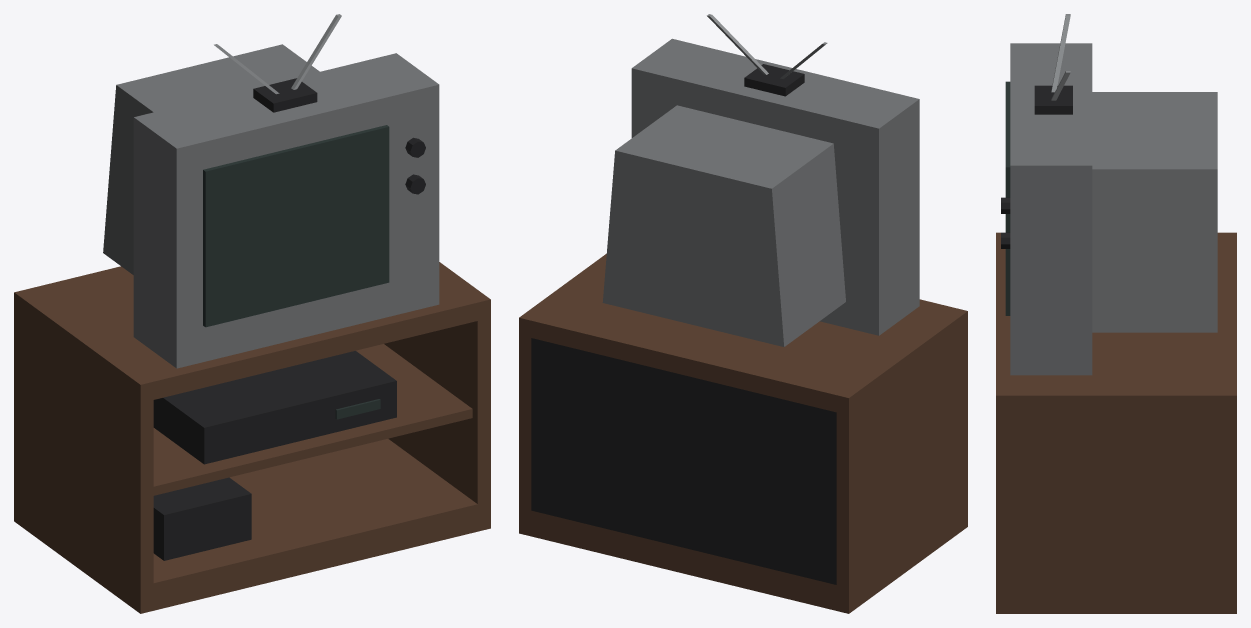
3 renders of one model, left to right at view 1: azimuth 30°, elevation 25°; view 2: azimuth 150°, elevation 25°; view 3: azimuth 270°, elevation 25°, orthographic. The views are drawn at different scales.
Parts seen in each view (by area): view 1: tv; view 2: tv; view 3: tv.
Boxes of the visible parts, <box> form: tv: <box>14,14,490,613</box>; tv: <box>519,14,967,613</box>; tv: <box>996,14,1236,613</box>.
Size of the model in its own units: 0.8 by 1.12 by 0.5.
